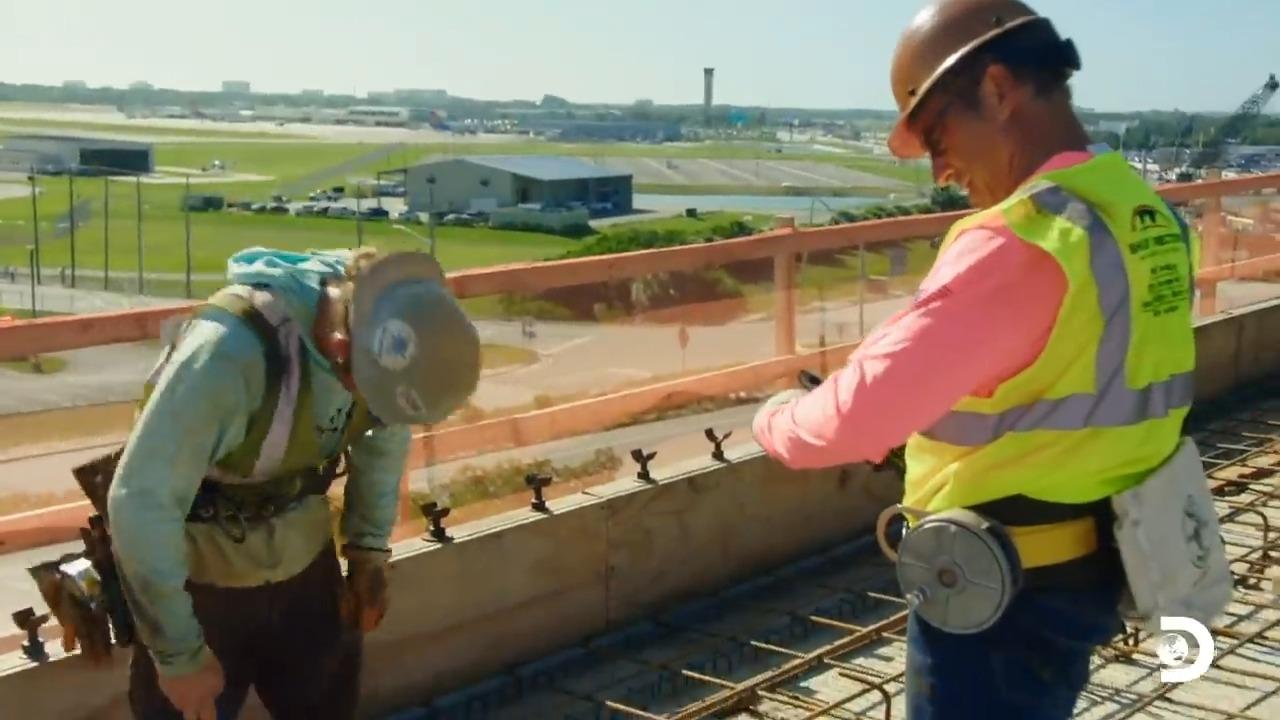Gloves: (344, 546, 398, 641)
Helmet: (336, 249, 490, 430), (890, 0, 1043, 123)
Person: (750, 0, 1215, 718), (105, 244, 481, 719)
Safety Vest: (953, 206, 1171, 489), (161, 341, 346, 569)
bare-arms: (143, 642, 231, 718)
